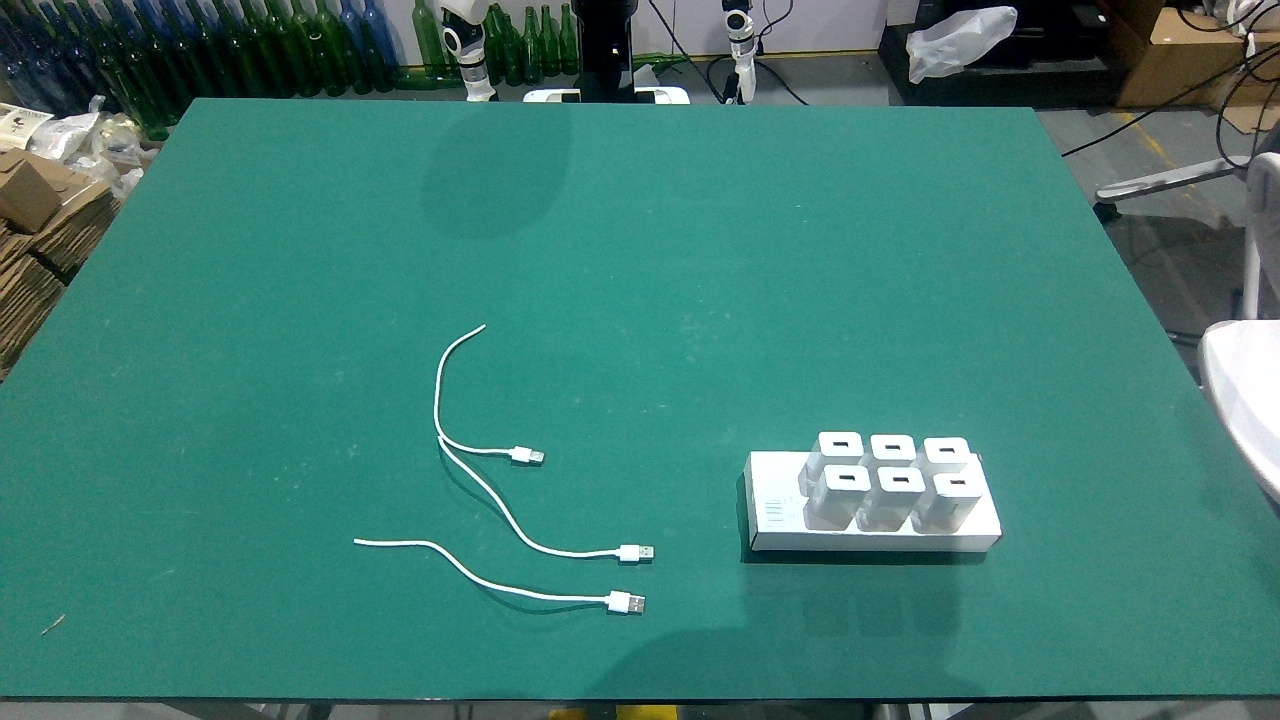usb_a_plug: (591, 589, 646, 615), (499, 442, 545, 466), (605, 544, 655, 561)
